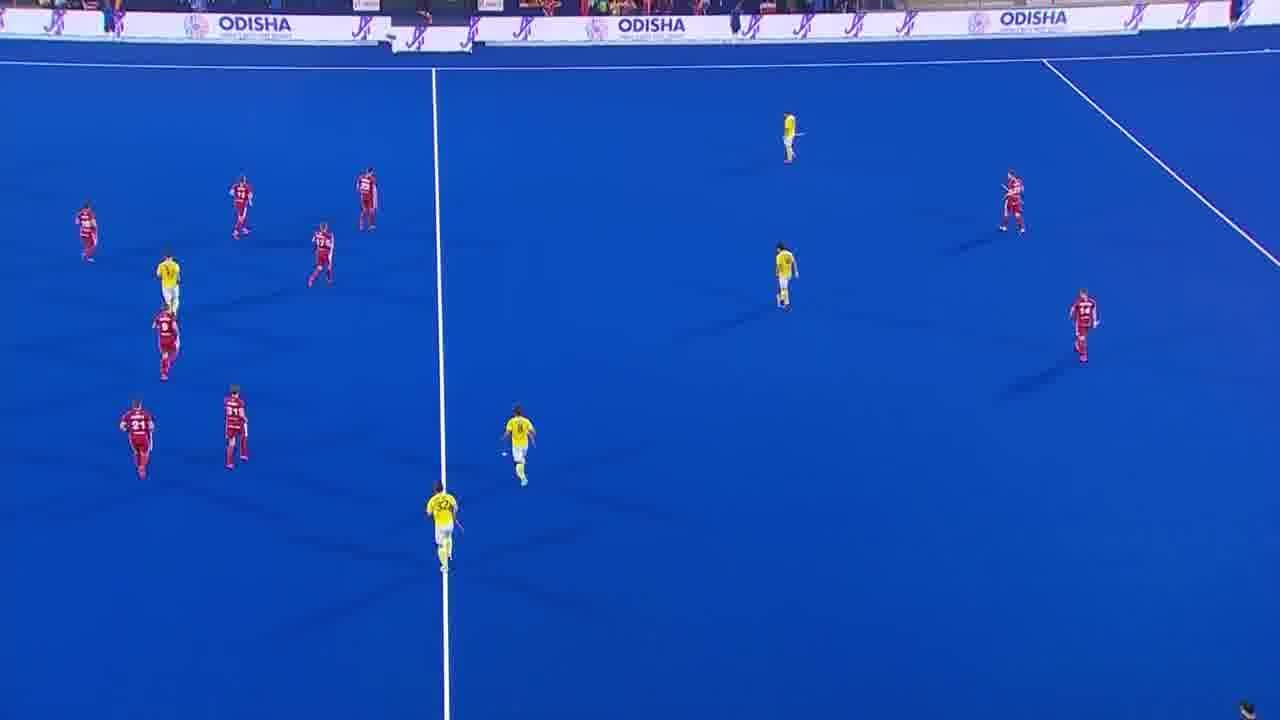ball: (496, 448, 509, 459)
